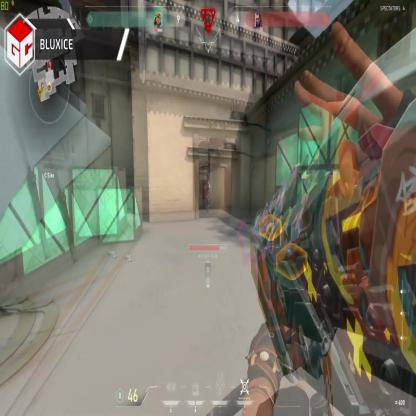enemy: (204, 182, 210, 212)
enemy_head: (208, 182, 210, 186)
